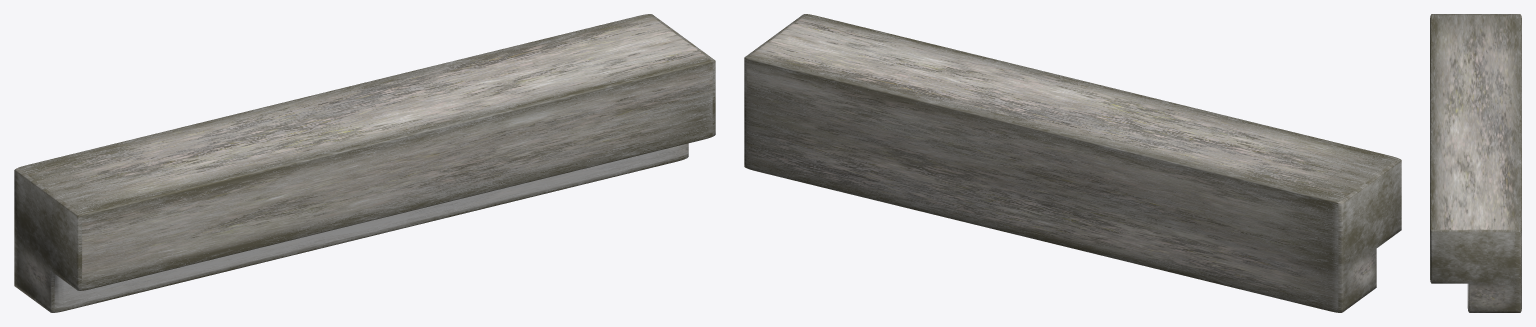
File: CORNISA.fbx
3 renders of one model, left to right at view 1: azimuth 30°, elevation 25°; view 2: azimuth 150°, elevation 25°; view 3: azimuth 270°, elevation 25°, orthographic. The views are drawn at different scales.
Parts seen in each view (by area): view 1: Cube; view 2: Cube; view 3: Cube.
Part boxes in pixels (x1=…): Cube: x1=14, y1=14, x2=715, y2=312; Cube: x1=744, y1=14, x2=1401, y2=312; Cube: x1=1430, y1=14, x2=1521, y2=312.
Bounding box in the file's own units: 368 × 65.62 × 65.54.
